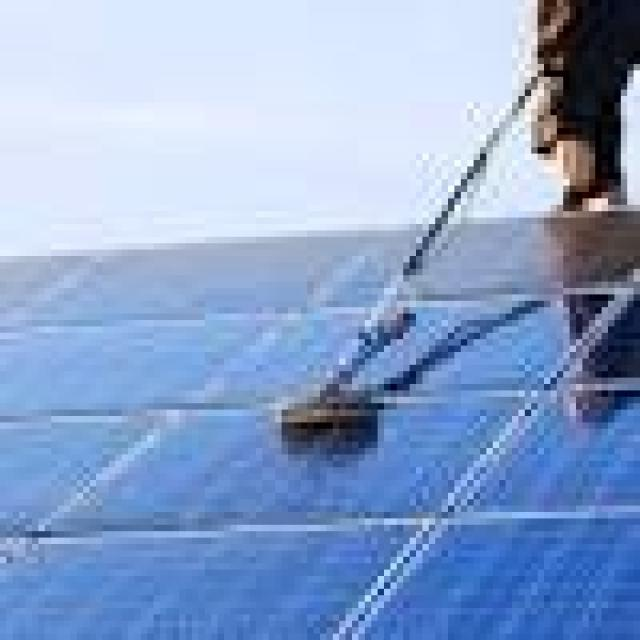clean-solar-panel: (0, 211, 639, 295)
